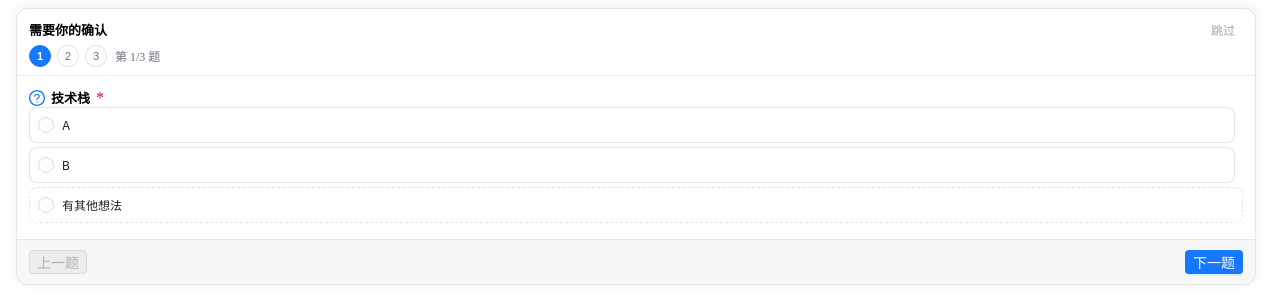
Scenario: ElicitationWizard › 步骤点可跳回任意题
Click the radio button with test id "elicitation-option-q0-0" at [46, 125], box [29, 107, 1235, 143]
Wait 320 ms
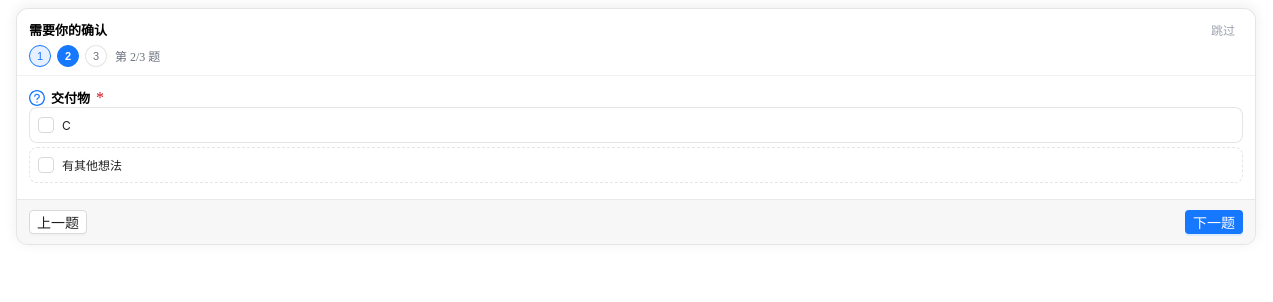
Click the button "1" at [40, 56], box [29, 45, 51, 67]
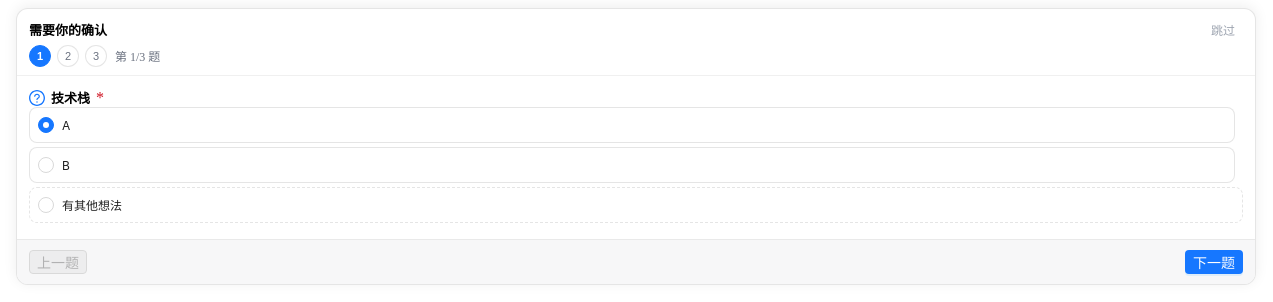
Check: the text with test id "elicitation-count-r1" reads "第 1/3 题", box [115, 47, 160, 65]
